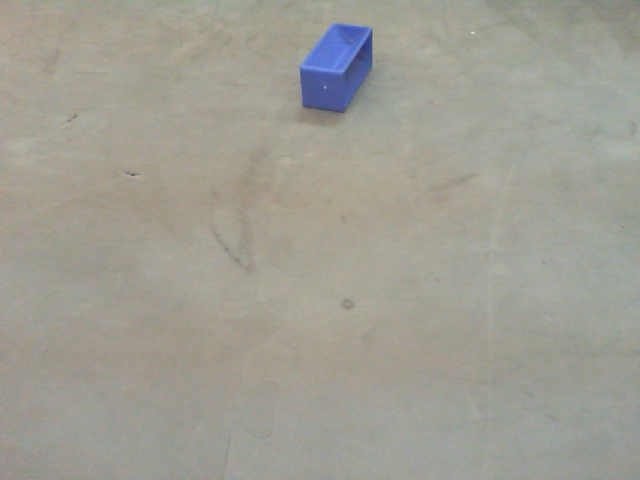BlueSample: (297, 21, 379, 115)
